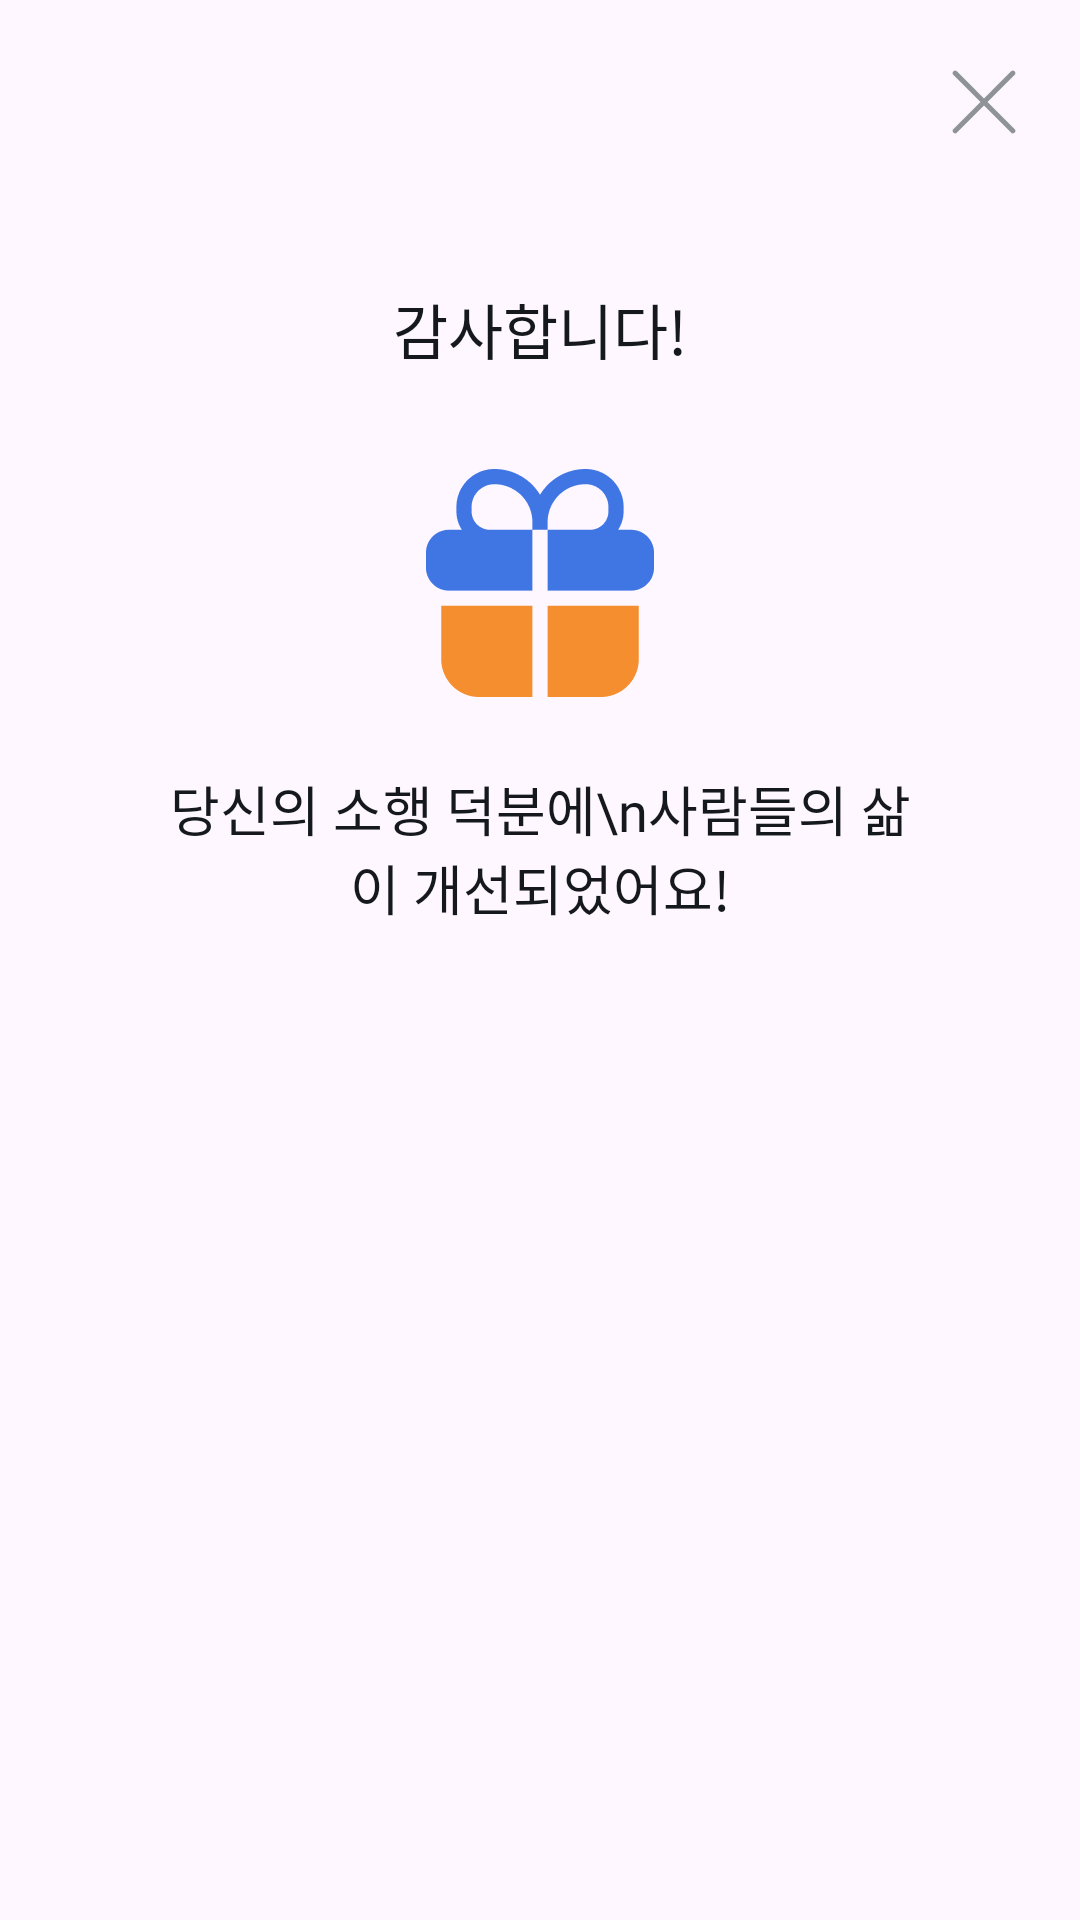

Locate icon controls on the screen. Image size 1080px×1920px, boxes as (x1, y1, x2, y2).
close: (952, 70, 1016, 134)
gift: (426, 469, 654, 697)
